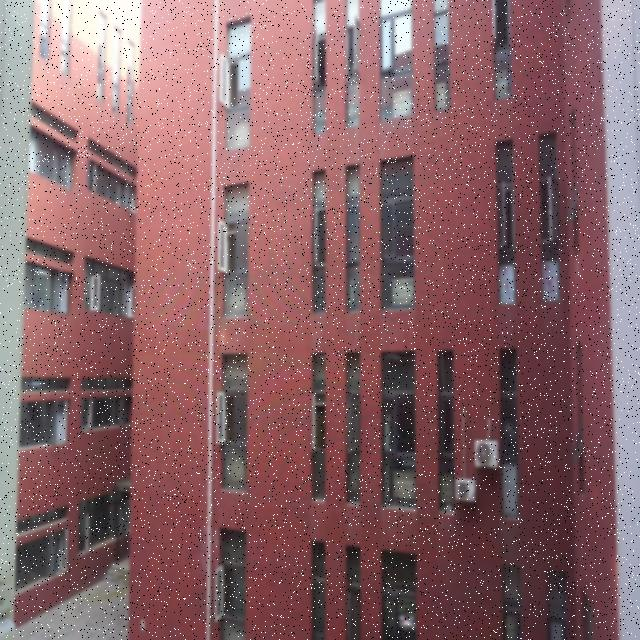UAV: (399, 615, 416, 628)
